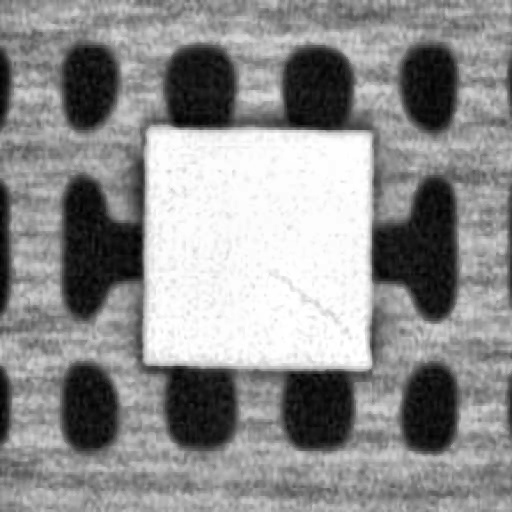DIE_CRACK: (257, 258, 349, 334)
